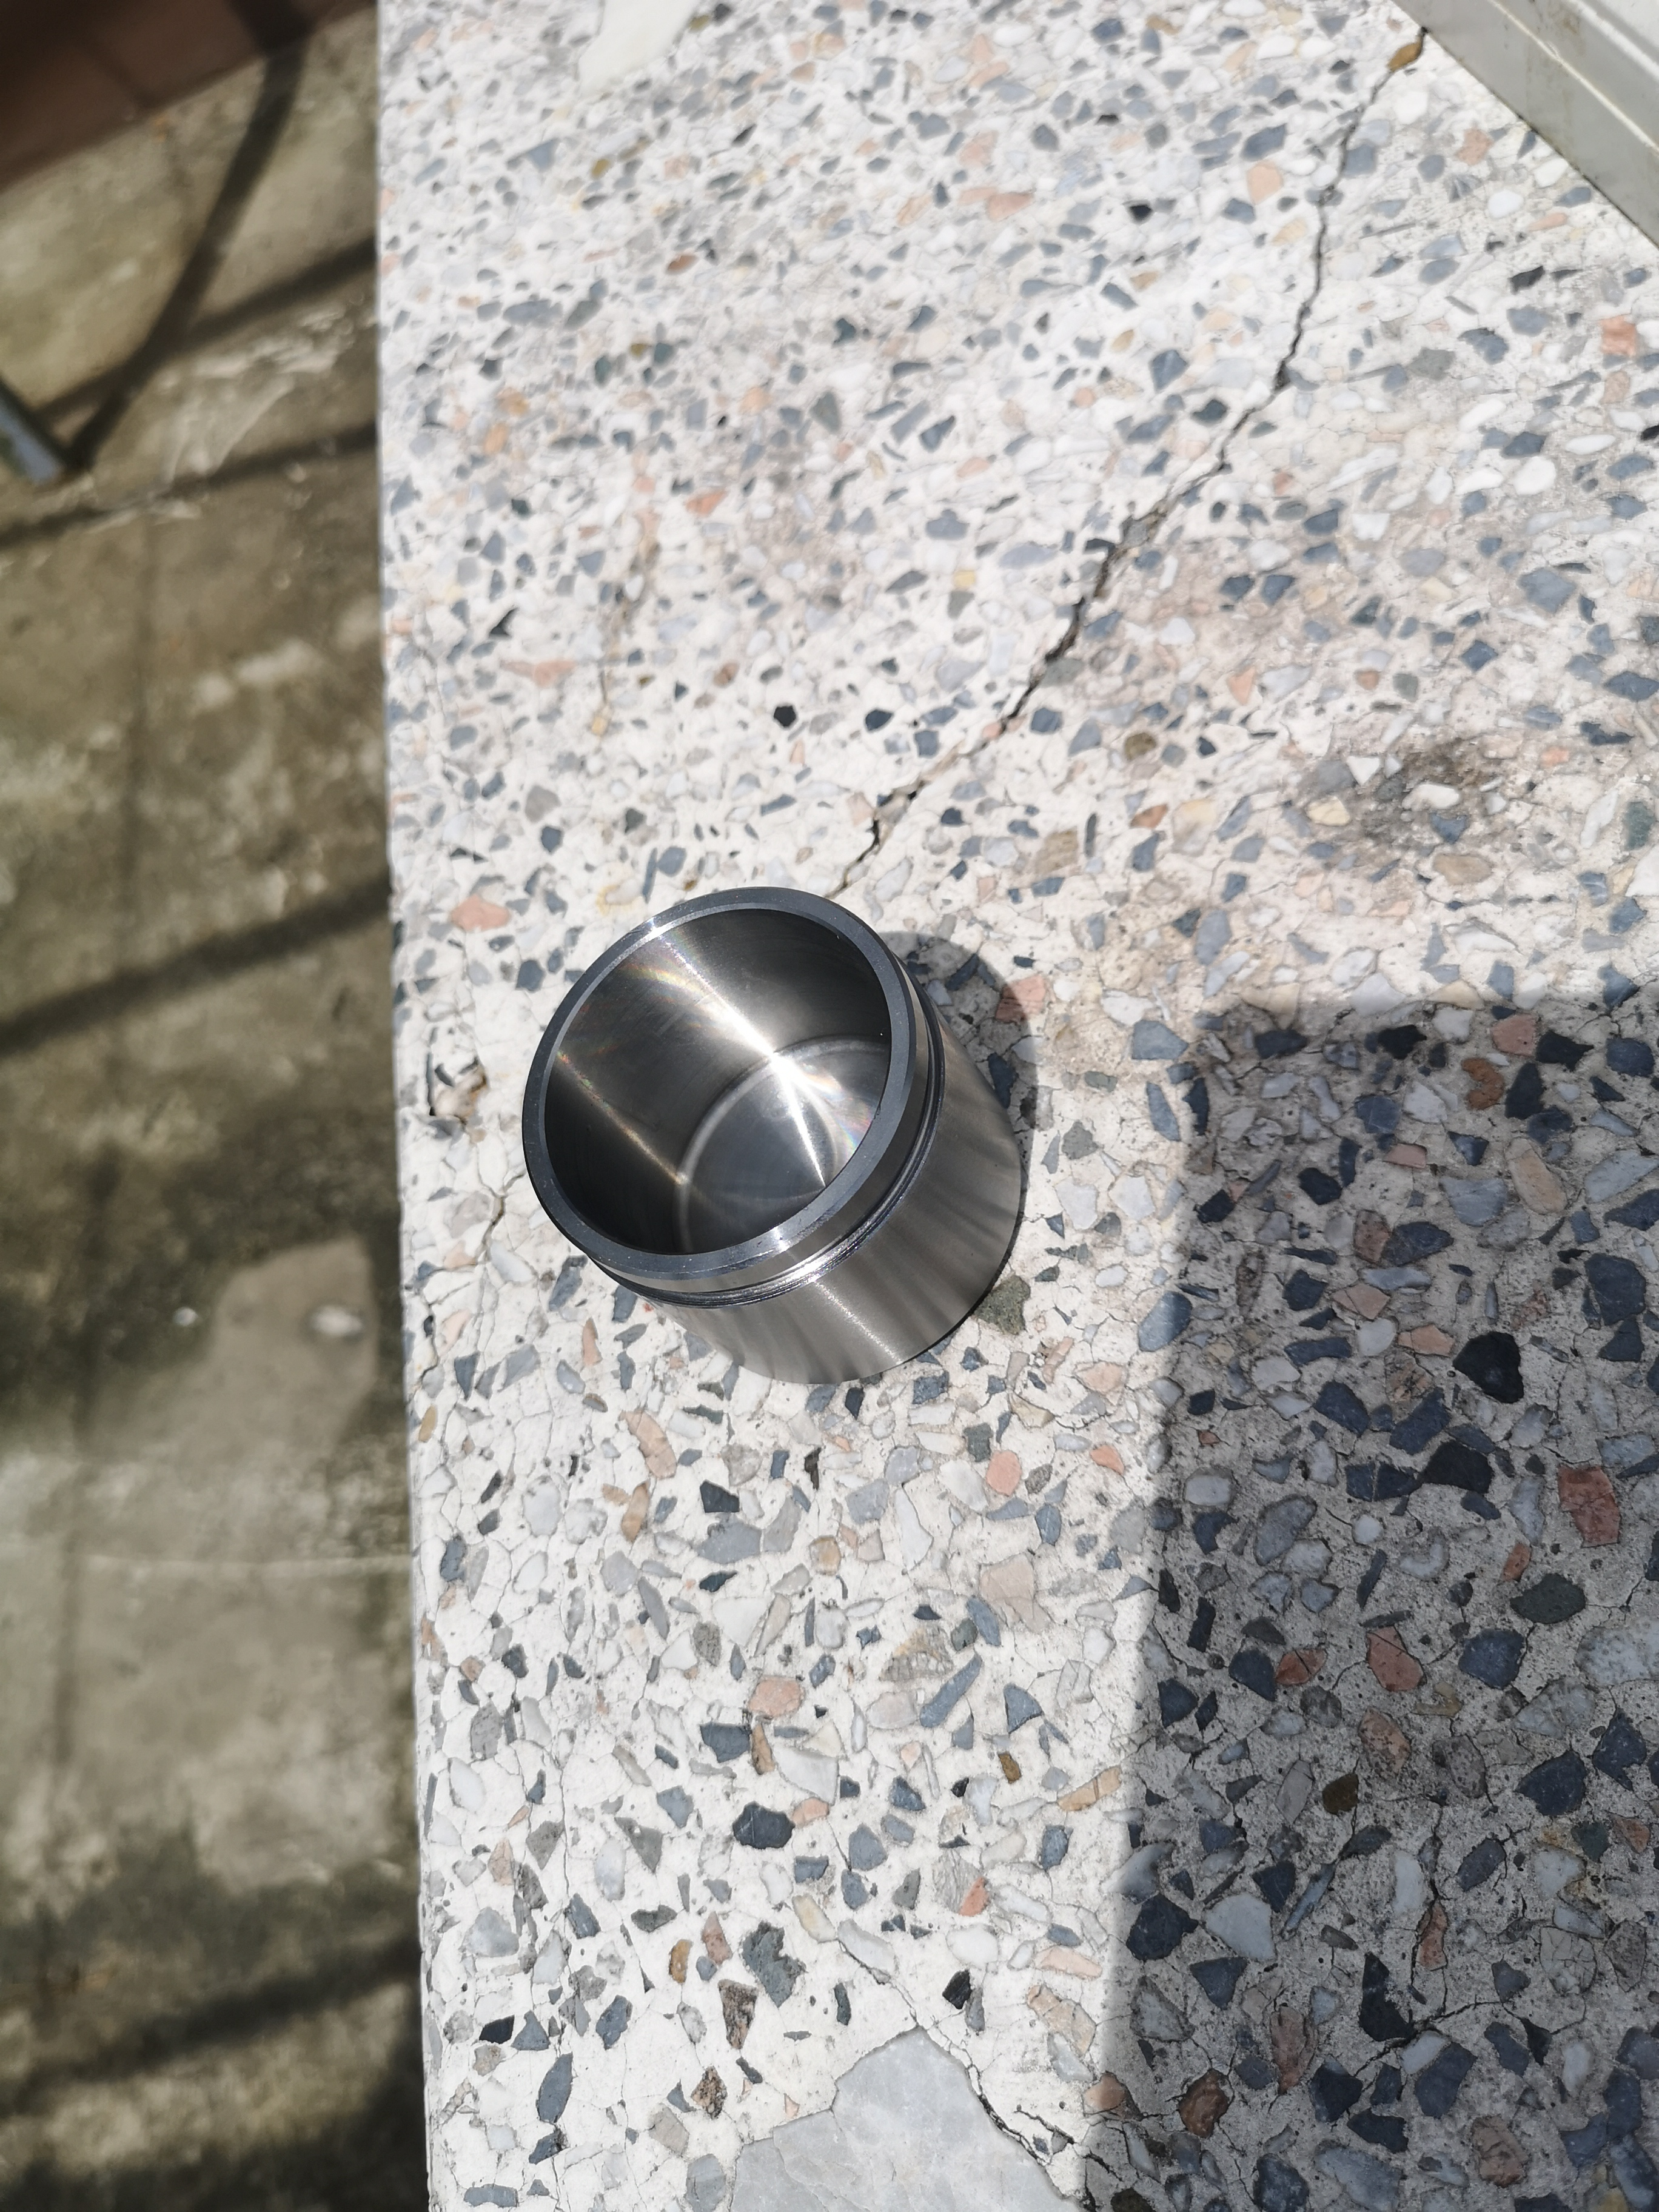ลูกสูบดิสเบรค: (465, 852, 1056, 1444)
